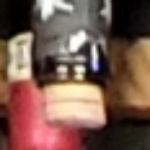bottle: (14, 27, 135, 134)
